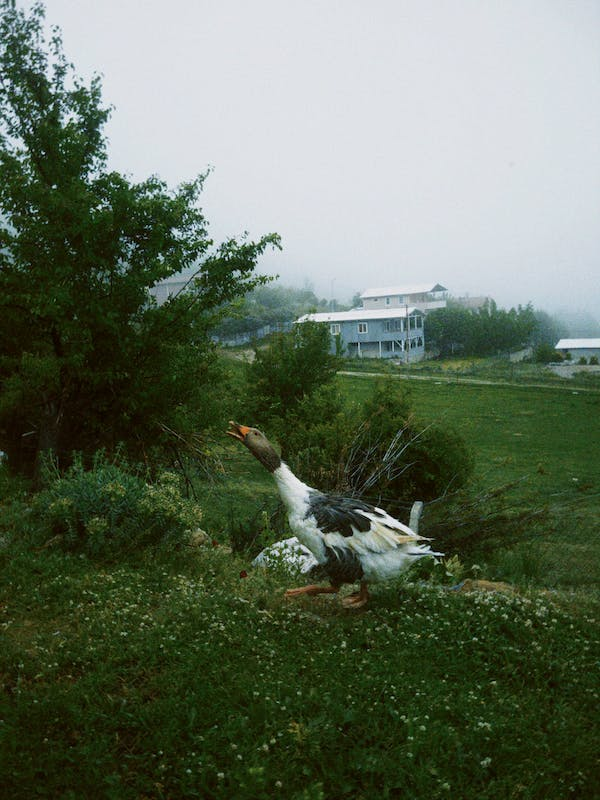Walking: (217, 417, 477, 611)
